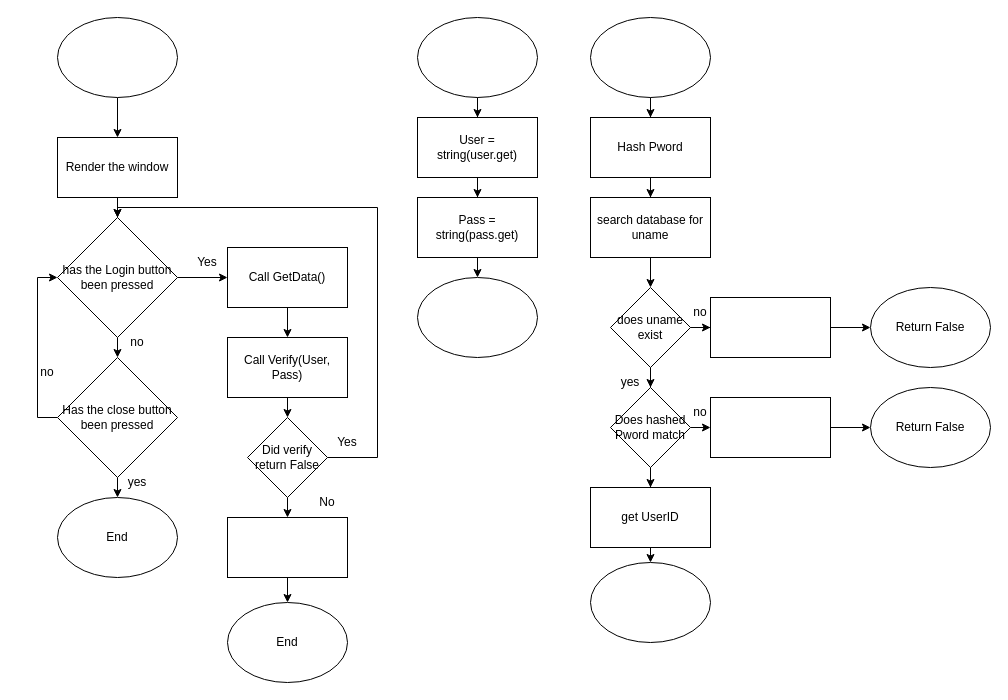
The diagram is 1008 pixels wide and 700 high, and some of its shapes have lost their labels. The shapes that lost their labels are listed below. From the top down, each one's centre as x and y in pixels, then its label:
(x=117, y=57): Start
(x=477, y=57): GetData()
(x=650, y=57): Verify(Uname, Pword)
(x=477, y=317): Return User, Pass
(x=770, y=327): send alert saying "no user exists"
(x=770, y=427): send alert saying "wrong password"
(x=287, y=547): Call menu(UserID)
(x=650, y=602): return UserID
